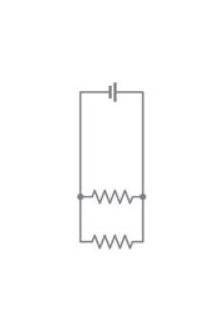resistor: (78, 186, 141, 209), (88, 233, 145, 250)
